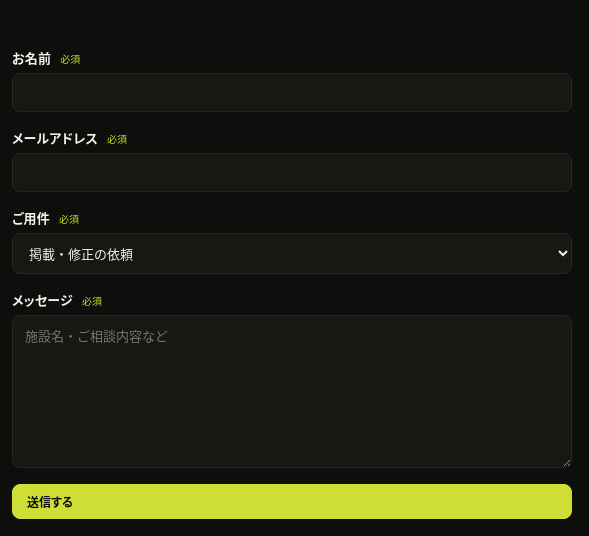
Scenario: ContactForm › submission › shows the thank-you note and a way to send another after success
In the field labelled "お名前 必須": (292, 92) [12,73,572,112], type "齋藤"
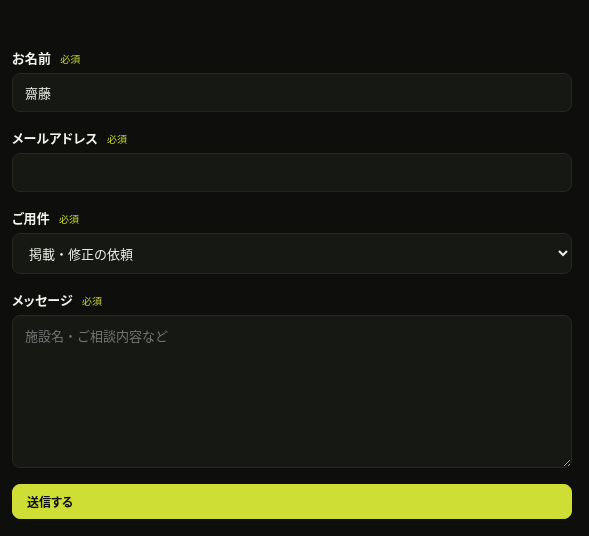
In the field labelled "メールアドレス 必須": (292, 172) [12,153,572,192], type "owner@example.test"
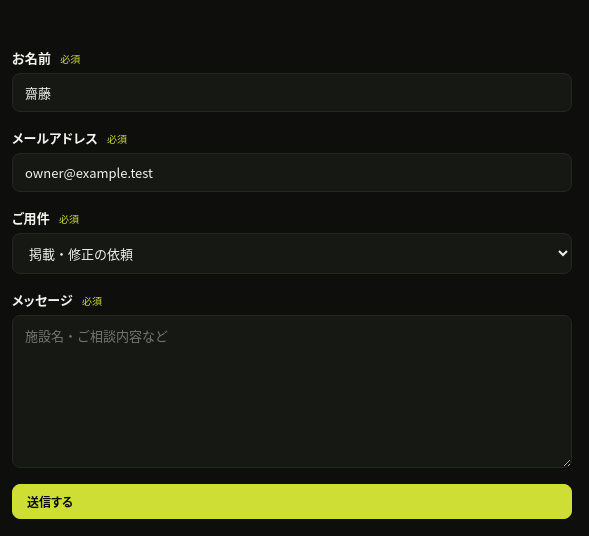
In the text box labelled "メッセージ 必須": (292, 391) [12,315,572,468], type "掲載情報の修正をお願いします。"
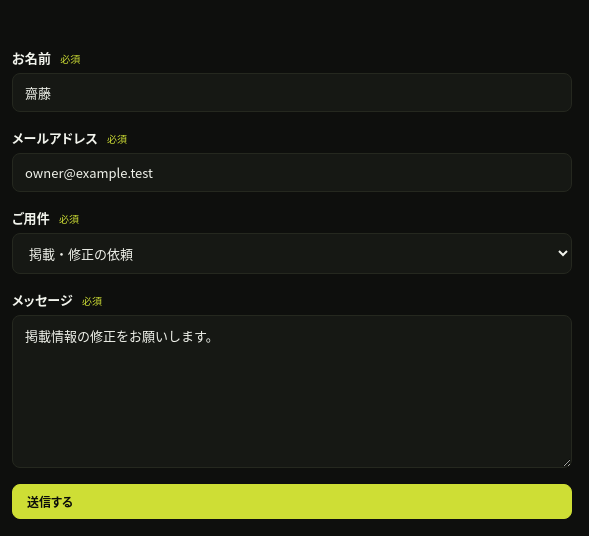
Submit the form
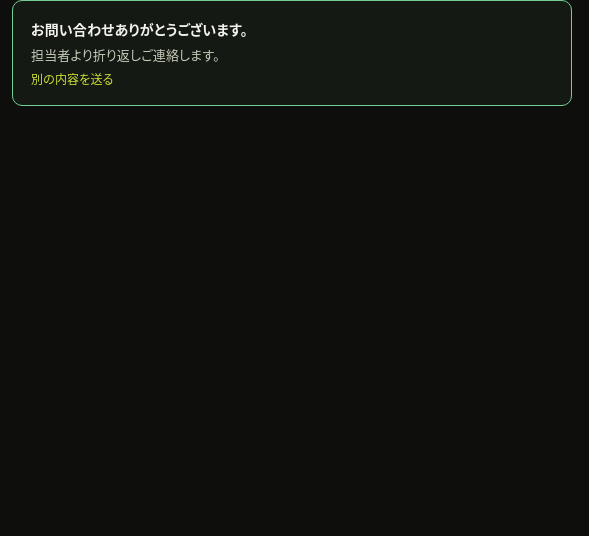
expect the text "お問い合わせありがとうございます。" is shown: met, box [31,19,248,39]
expect the form is gone: met
